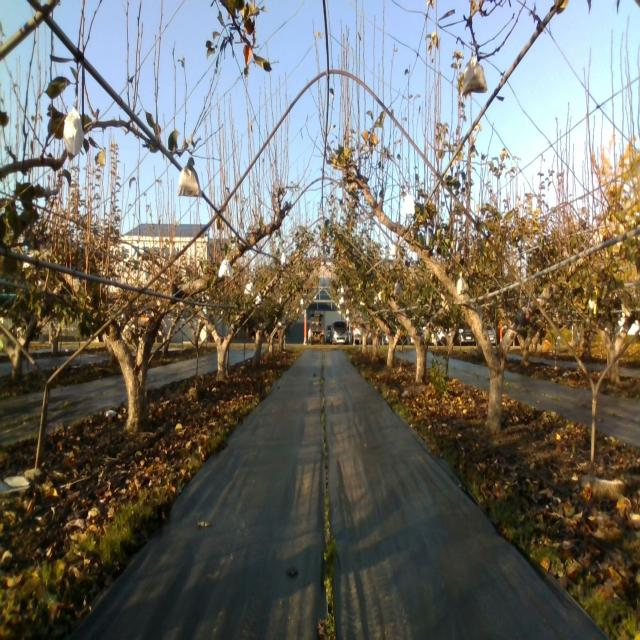pearbags: (177, 157, 202, 199), (63, 110, 84, 160), (462, 54, 486, 96), (218, 255, 233, 280), (403, 190, 417, 213)
